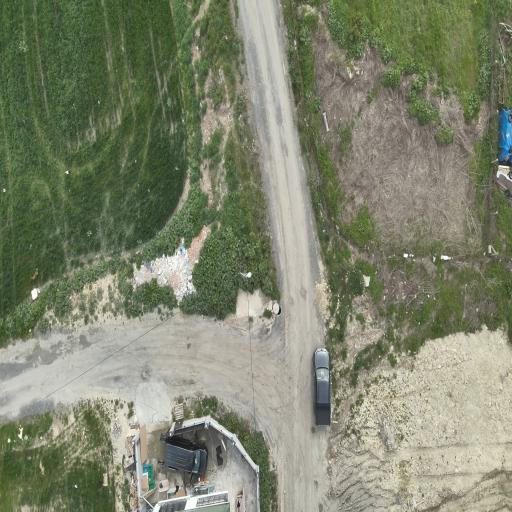car: (165, 438, 207, 475), (314, 348, 330, 426)
